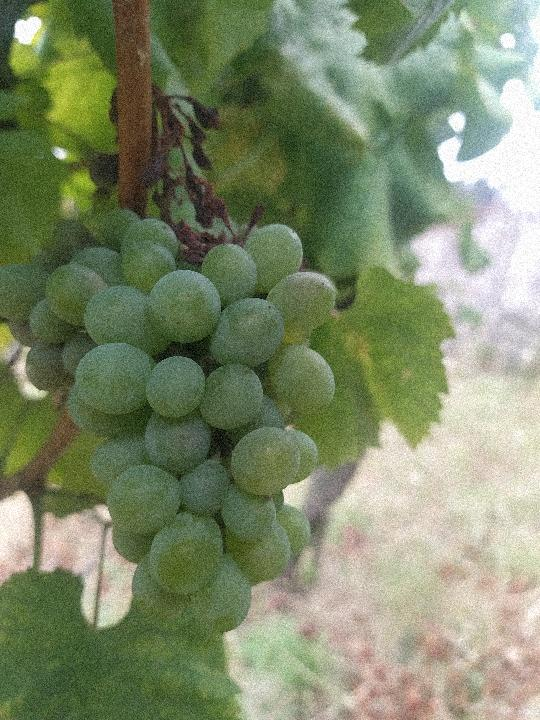grape: (0, 79, 342, 638)
